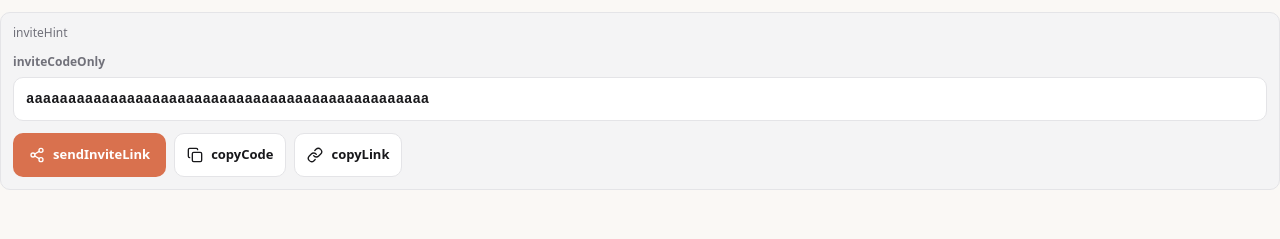
copies the link as a fallback on devices without native sharing
Click the button "sendInviteLink" at [90, 155], box [13,133,166,177]
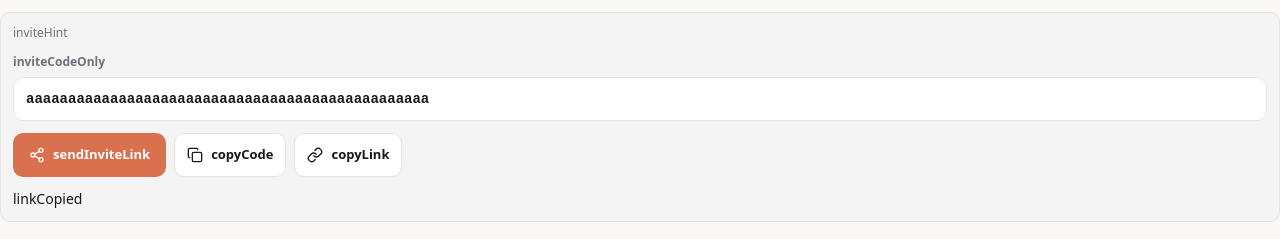
Result: the message "linkCopied" is shown at [13,189,82,208]
